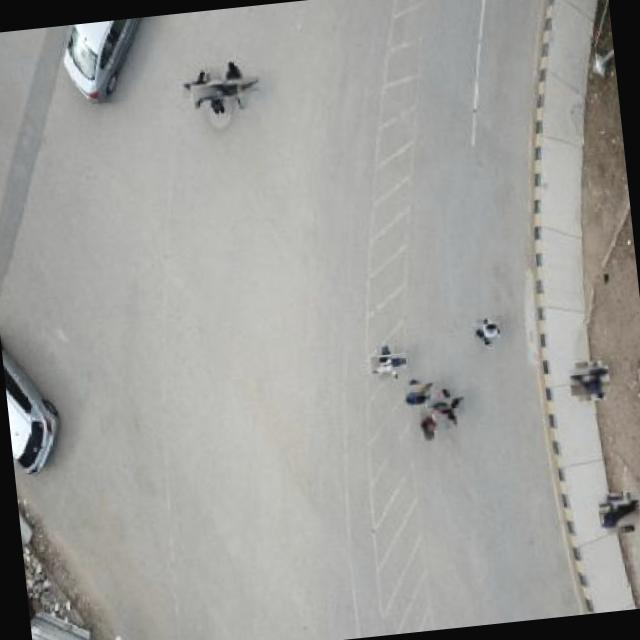Person: (600, 494, 638, 534), (216, 66, 254, 104), (572, 362, 609, 400), (198, 72, 235, 110), (428, 390, 462, 422), (372, 347, 402, 377), (404, 378, 434, 408), (186, 74, 216, 104), (418, 407, 438, 443), (474, 319, 499, 344)
